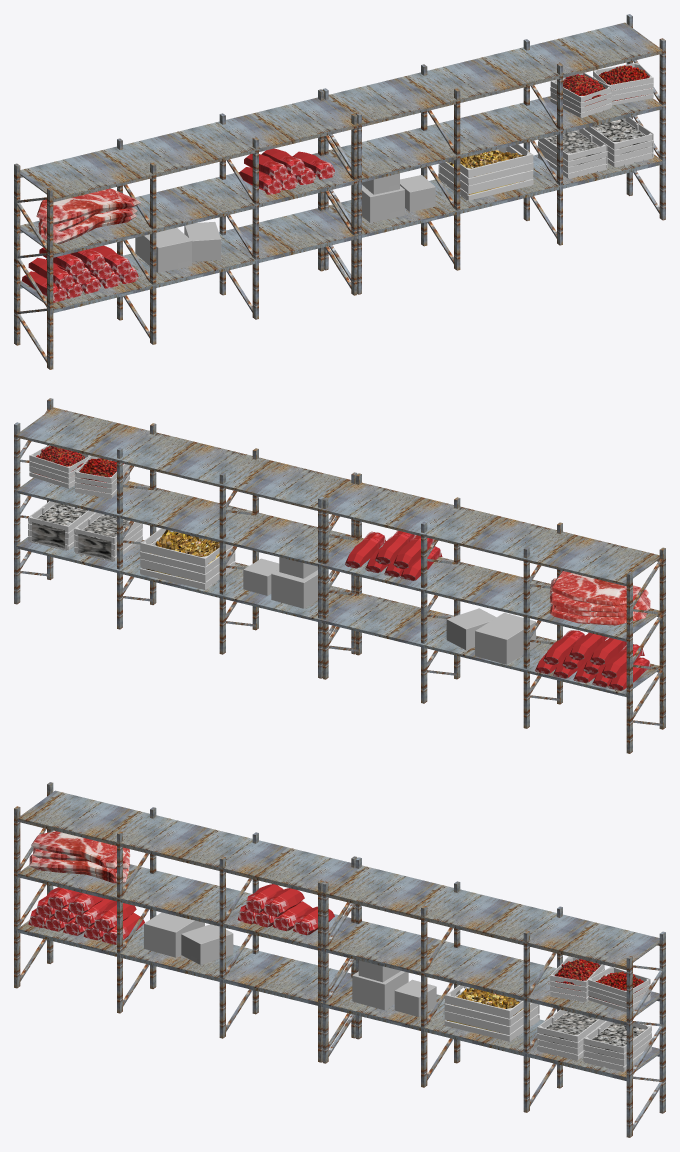
File: shelf freezer 3.fbx
The picture shows the model from 3 angles, top to bottom: view 1: azimuth 30°, elevation 25°; view 2: azimuth 150°, elevation 25°; view 3: azimuth 330°, elevation 25°; orthographic projection.
Visible parts, largest first — view 1: Shelf Freezer2.007, Shelf Freezer2.006, Box of strawberries.003, Plane.011, Box Packaging.021, Box of strawberries.006, Box of strawberries.007, Box of strawberries.004, Box Packaging.024, Box Packaging.022, Box of strawberries.005, Box Packaging.026 (+13 smaller); view 2: Shelf Freezer2.007, Shelf Freezer2.006, Box of strawberries.003, Box Packaging.021, Plane.011, Box Packaging.024, Cube.020, Box Packaging.022, Cube.018, Box of strawberries.005, Strawberry.004, Box of strawberries.006 (+15 smaller); view 3: Shelf Freezer2.006, Shelf Freezer2.007, Box of strawberries.003, Box of strawberries.007, Plane.011, Box Packaging.021, Box of strawberries.006, Box Packaging.022, Box Packaging.024, Box of strawberries.005, Box Packaging.026, Box of strawberries.004 (+13 smaller).
Part boxes in pixels (box(x1,y1,x2,y2)): Shelf Freezer2.007: box(14, 88, 361, 369); Shelf Freezer2.006: box(318, 14, 665, 295); Box of strawberries.003: box(438, 144, 533, 200); Plane.011: box(36, 188, 140, 224); Box Packaging.021: box(135, 227, 192, 272); Box of strawberries.006: box(538, 128, 607, 178); Box of strawberries.007: box(584, 117, 653, 167); Box of strawberries.004: box(550, 72, 611, 118); Box Packaging.024: box(362, 185, 404, 222); Box Packaging.022: box(184, 222, 221, 261); Box of strawberries.005: box(593, 62, 653, 105); Box Packaging.026: box(400, 175, 435, 211); Shelf Freezer2.007: box(318, 472, 665, 753); Shelf Freezer2.006: box(14, 398, 361, 679); Box of strawberries.003: box(140, 528, 235, 589); Box Packaging.021: box(475, 612, 535, 664); Plane.011: box(550, 571, 648, 606); Box Packaging.024: box(271, 569, 317, 608); Cube.020: box(32, 503, 87, 548); Box Packaging.022: box(446, 608, 496, 650); Cube.018: box(78, 514, 130, 559); Box of strawberries.005: box(29, 445, 90, 488); Strawberry.004: box(146, 529, 226, 581); Box of strawberries.006: box(74, 512, 142, 561); Shelf Freezer2.006: box(318, 856, 665, 1137); Shelf Freezer2.007: box(14, 782, 361, 1063); Box of strawberries.003: box(444, 985, 539, 1041); Box of strawberries.007: box(583, 1021, 651, 1071); Plane.011: box(31, 831, 127, 868); Box Packaging.021: box(144, 912, 204, 957); Box of strawberries.006: box(537, 1009, 605, 1060); Box Packaging.022: box(181, 924, 233, 965); Box Packaging.024: box(352, 971, 408, 1010); Box of strawberries.005: box(588, 966, 650, 1012); Box Packaging.026: box(394, 979, 436, 1016); Box of strawberries.004: box(550, 956, 604, 1002).
Bounding box in the file's own units: 989 × 275 × 106.
